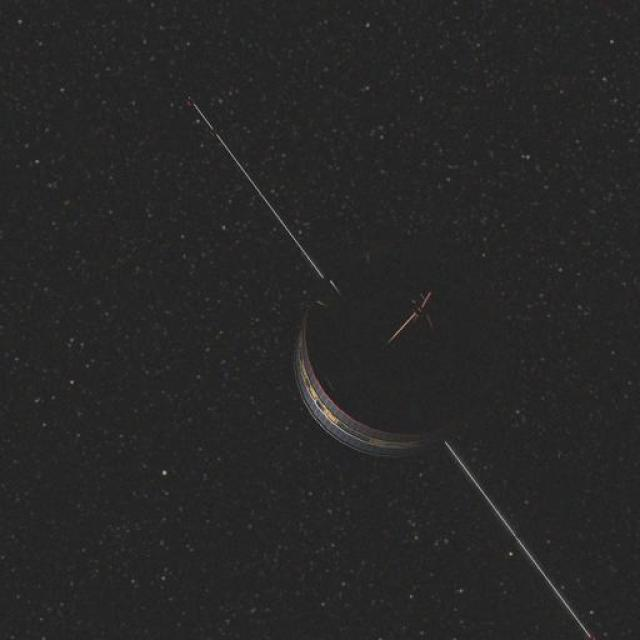double_start: (274, 249, 497, 487)
